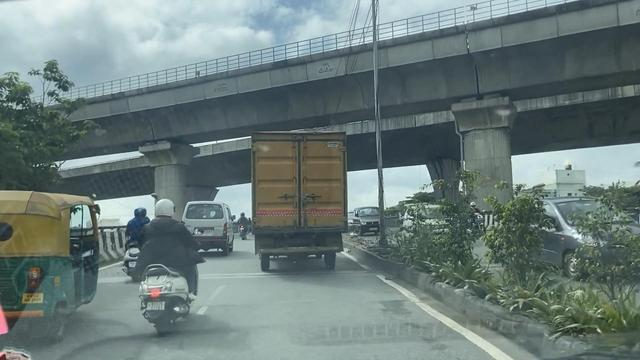HMV: (251, 130, 345, 263)
LMV: (133, 194, 192, 333)
